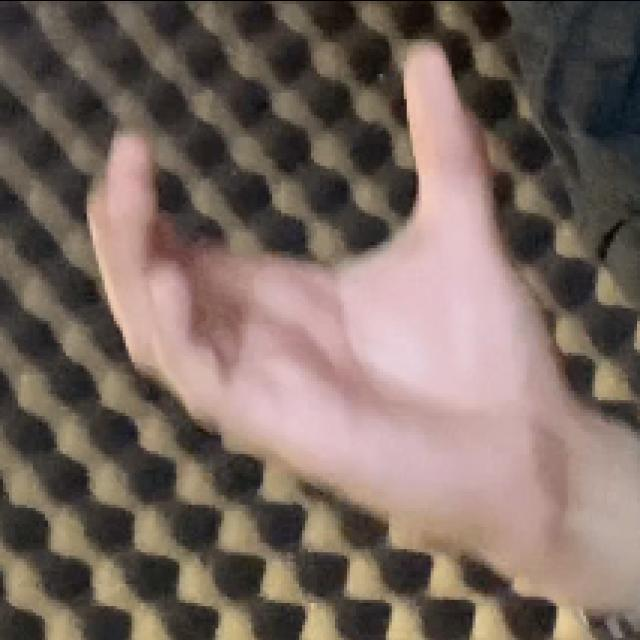C: (70, 29, 572, 591)
